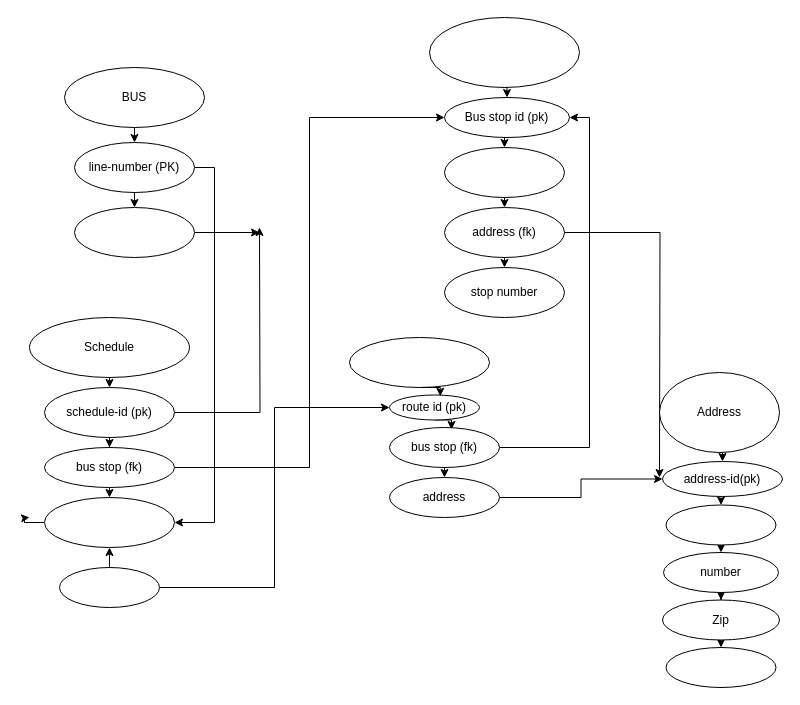
Some shapes in this 800 by 705 pixel diagram are drawn without their labels. The shapes that lost their labels are listed below. From the top down, each one's centre as x and y in pixels, then its label:
the point at 504,52: BUS STOPS
the point at 504,172: name
the point at 134,232: schedule (fk)
the point at 419,362: Route
the point at 109,522: time / bus-line-number
the point at 720,524: street
the point at 109,587: route (fk)
the point at 720,667: city
